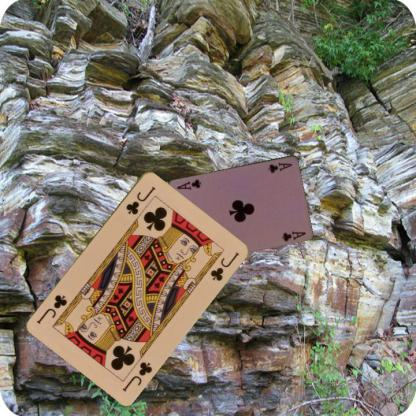Ac: (266, 160, 293, 174)
Jc: (119, 358, 154, 393), (123, 184, 157, 216)
